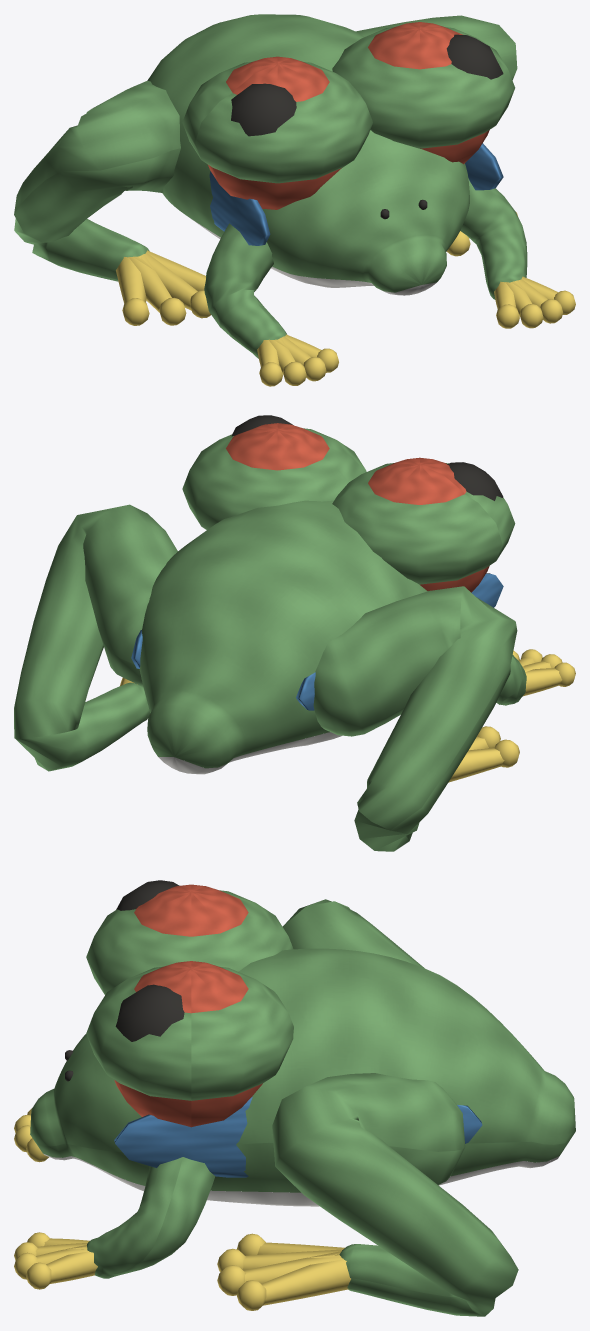
Rendered from birds-and-reptiles-hd-red-eyed-tree-frog-046faf2b__28107.glb.
The picture shows the model from 3 angles, top to bottom: view 1: azimuth 30°, elevation 25°; view 2: azimuth 150°, elevation 25°; view 3: azimuth 270°, elevation 25°; orthographic projection. The views are drawn at different scales.
Parts seen in each view (by area): view 1: red-eyed-tree-frog; view 2: red-eyed-tree-frog; view 3: red-eyed-tree-frog.
Part boxes in pixels (x1,y1,x2,y2): red-eyed-tree-frog: [14, 14, 575, 386]; red-eyed-tree-frog: [14, 415, 575, 851]; red-eyed-tree-frog: [14, 880, 575, 1316].
Bounding box in the file's own units: 0.073 × 0.0414 × 0.0717.
Materials: 6 (4 with a texture image).
